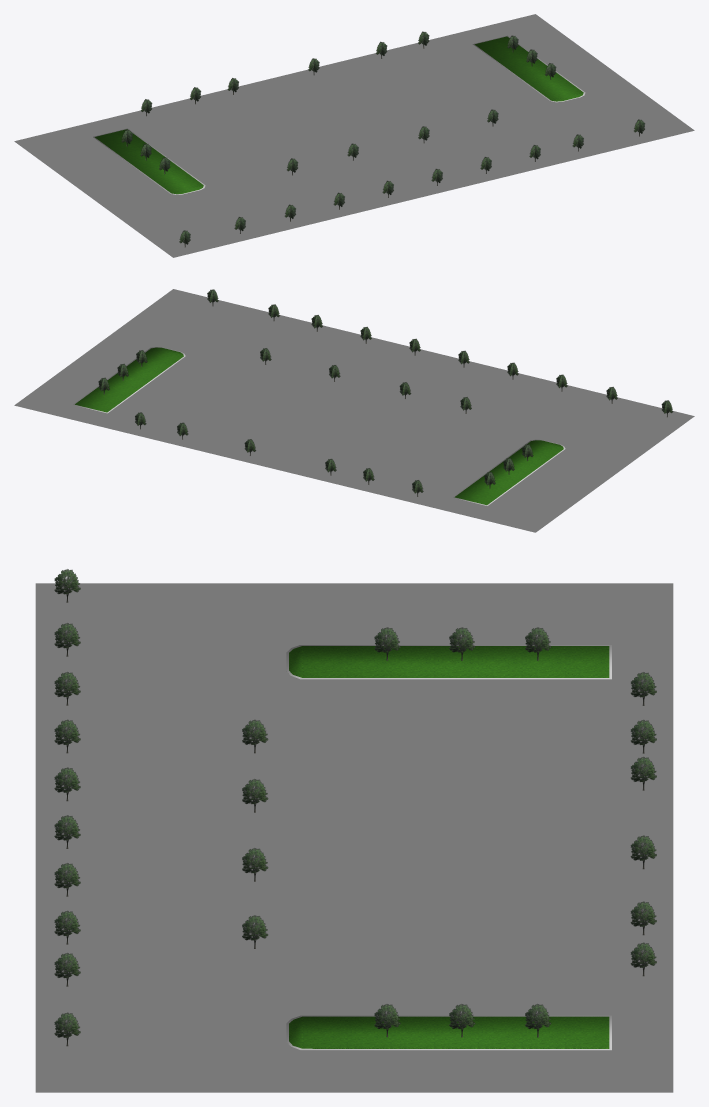
Rendered from cup_0f_mini.gltf.
The picture shows the model from 3 angles, top to bottom: view 1: azimuth 30°, elevation 25°; view 2: azimuth 150°, elevation 25°; view 3: azimuth 270°, elevation 25°; orthographic projection. The views are drawn at different scales.
Parts seen in each view (by area): view 1: dimian_1, dimian_35, dimian_30; view 2: dimian_1, dimian_35, dimian_30; view 3: dimian_1, dimian_30, dimian_35, dimian_32, dimian_31.
Boxes of the visible parts, bbox=[...] form: dimian_1: bbox=[14, 14, 694, 257]; dimian_35: bbox=[474, 36, 583, 101]; dimian_30: bbox=[95, 129, 203, 194]; dimian_1: bbox=[14, 289, 694, 532]; dimian_35: bbox=[75, 347, 183, 412]; dimian_30: bbox=[454, 440, 563, 505]; dimian_1: bbox=[35, 583, 673, 1092]; dimian_30: bbox=[289, 646, 609, 677]; dimian_35: bbox=[289, 1016, 609, 1048]; dimian_32: bbox=[286, 1015, 611, 1050]; dimian_31: bbox=[286, 645, 611, 679].
Size of the model in its own units: 386 by 13.02 by 204.
4 materials, 2 textured.
